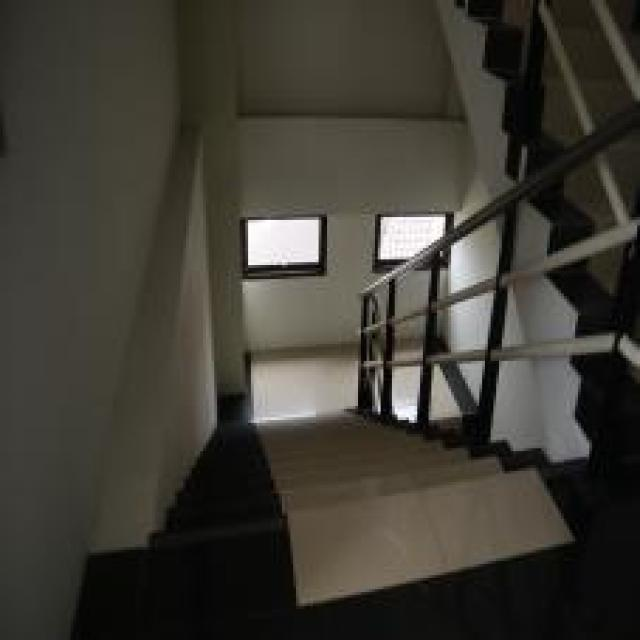downstair: (182, 413, 498, 638)
